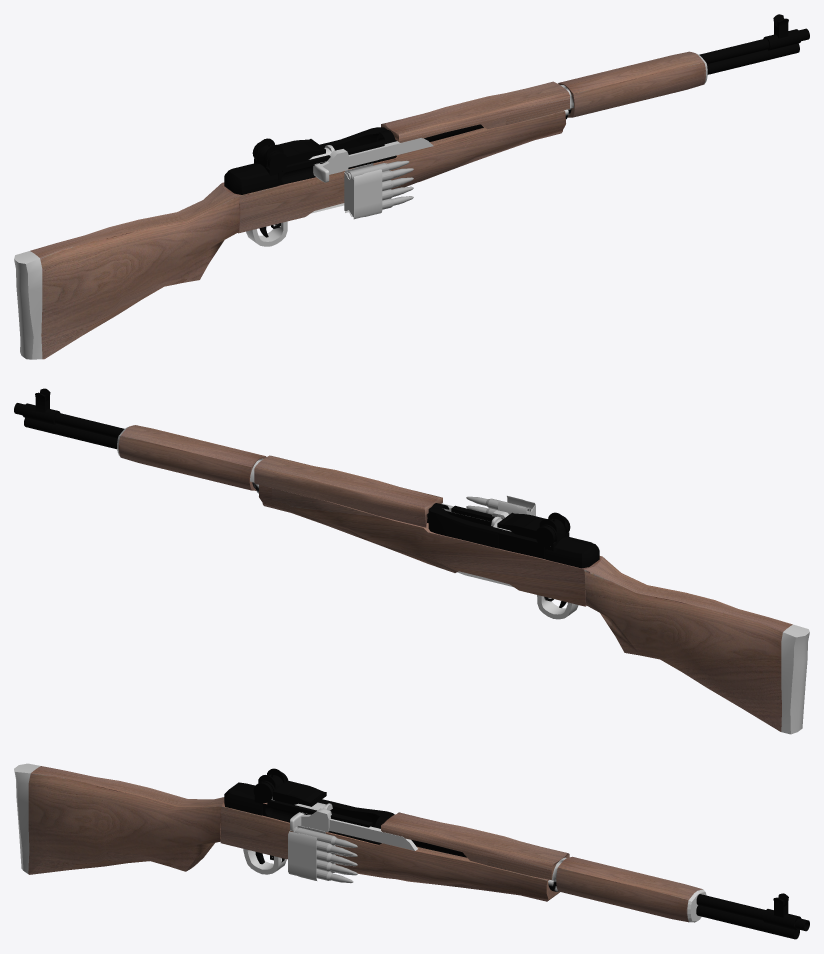
Rendered from M1Garand_New.fbx.
3 renders of one model, top to bottom at view 1: azimuth 30°, elevation 25°; view 2: azimuth 150°, elevation 25°; view 3: azimuth 330°, elevation 25°, orthographic.
Visible parts, largest first — view 1: m1garand_body, m1garand_bolt, m1garand_en_bloc; view 2: m1garand_body; view 3: m1garand_body, m1garand_bolt, m1garand_en_bloc, m1garand_shell_casing01.
Boxes of the visible parts, x1,y1,x2,y2 form: m1garand_body: (14,14,809,359); m1garand_bolt: (309,138,433,182); m1garand_en_bloc: (344,163,382,219); m1garand_body: (14,388,809,734); m1garand_body: (14,763,809,939); m1garand_bolt: (271,797,417,850); m1garand_en_bloc: (288,825,325,880); m1garand_shell_casing01: (293,827,357,847).
Size of the model in its own units: 111 by 20.82 by 10.19.
